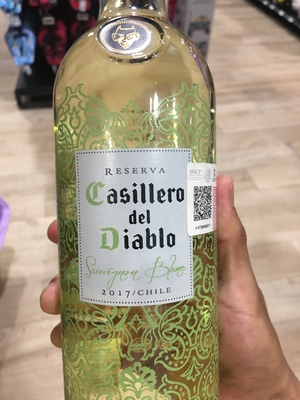casillero del diablo sauvignon blanc: (45, 2, 231, 400)
